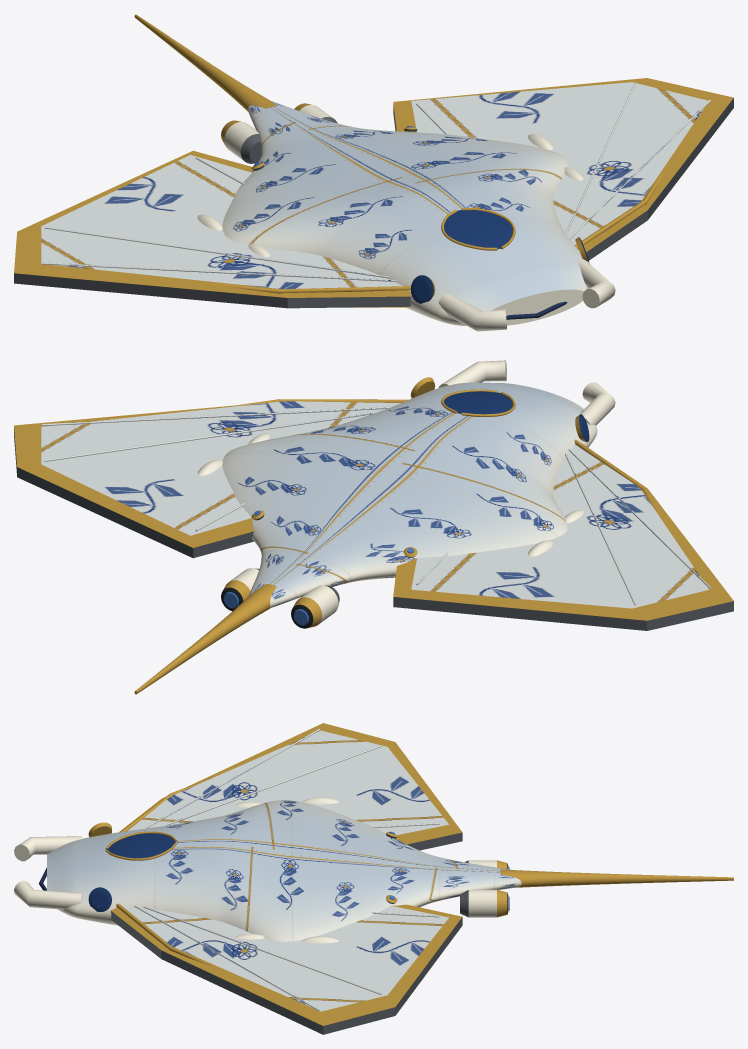
The picture shows the model from 3 angles, top to bottom: view 1: azimuth 30°, elevation 25°; view 2: azimuth 150°, elevation 25°; view 3: azimuth 270°, elevation 25°; orthographic projection. The views are drawn at different scales.
Parts seen in each view (by area): view 1: manta_ray_hull; view 2: manta_ray_hull; view 3: manta_ray_hull.
Boxes of the visible parts, x1,y1,x2,y2 form: manta_ray_hull: (14, 14, 733, 331); manta_ray_hull: (14, 360, 733, 694); manta_ray_hull: (14, 723, 733, 1034).
Size of the model in its own units: 255 by 28.67 by 256.
Materials: 1 (1 with a texture image).
